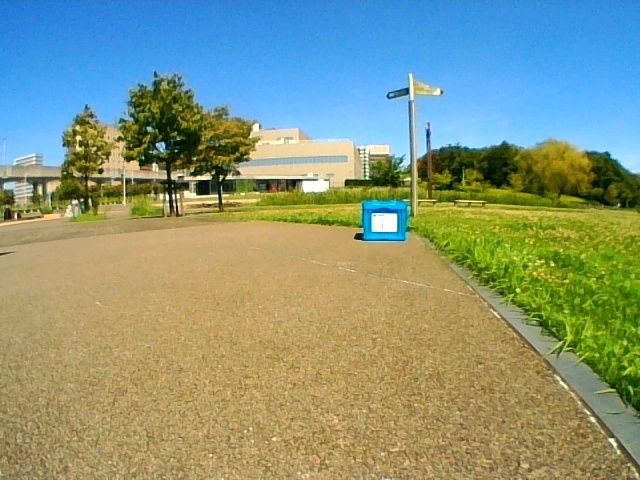blue_box: (361, 200, 406, 240)
tag: (373, 214, 395, 231)
